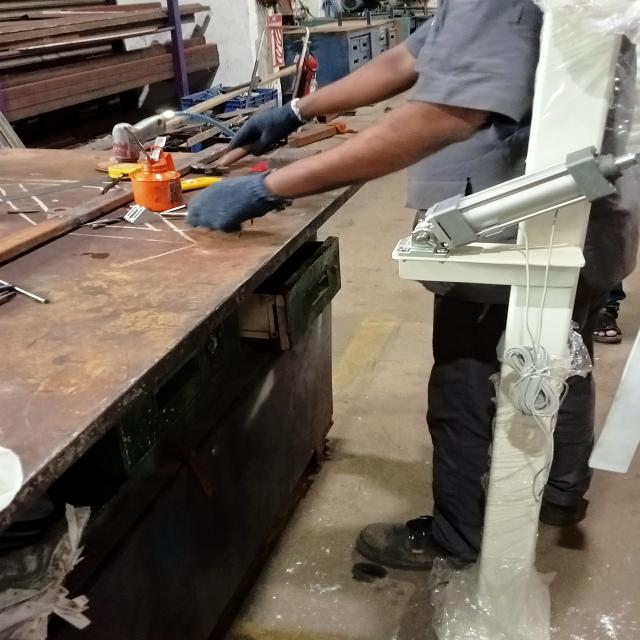Gloves-Detection: (189, 172, 276, 234), (218, 96, 301, 156)
